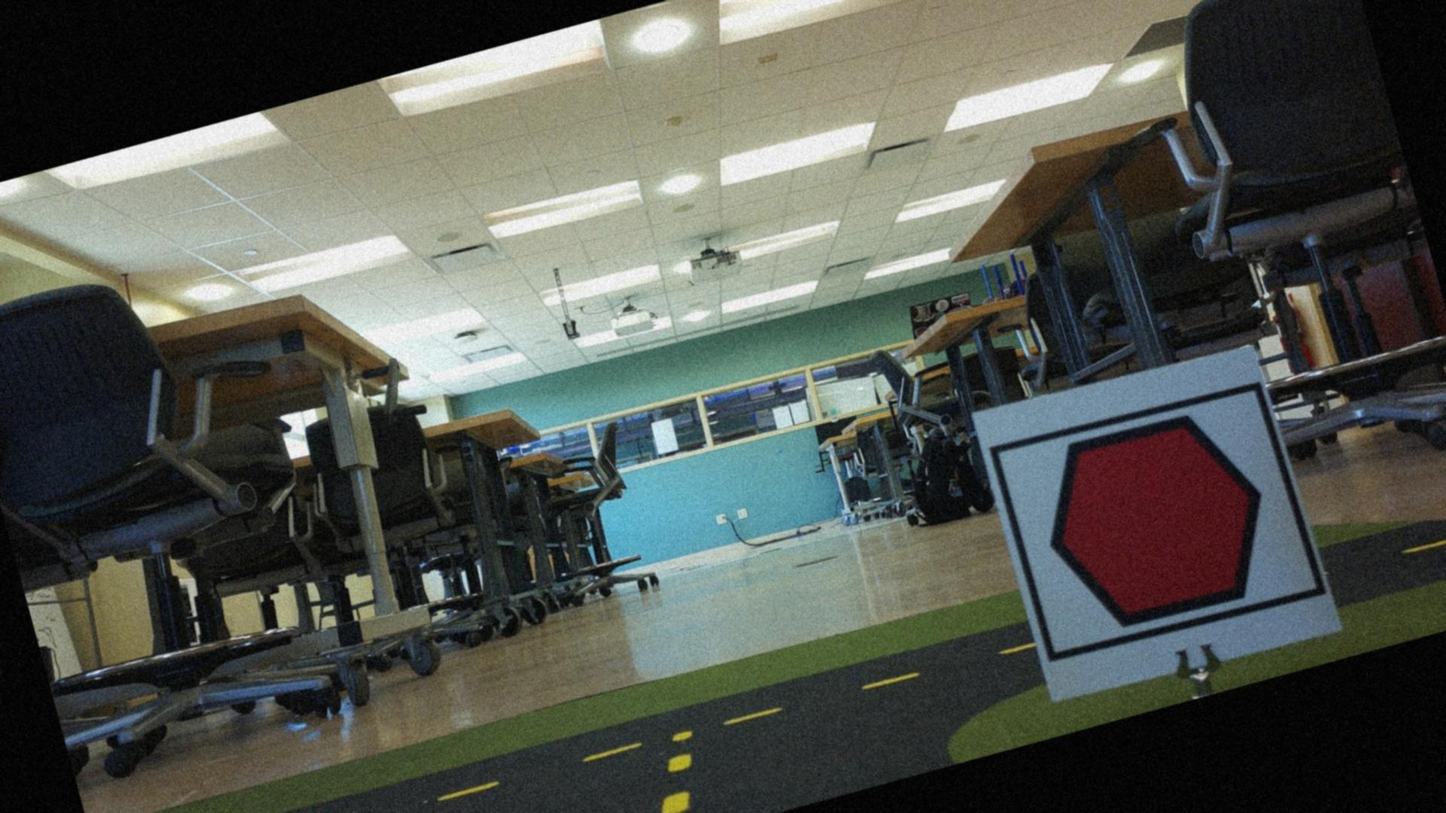stop: (1011, 388, 1303, 651)
yellowline: (642, 727, 711, 812)
